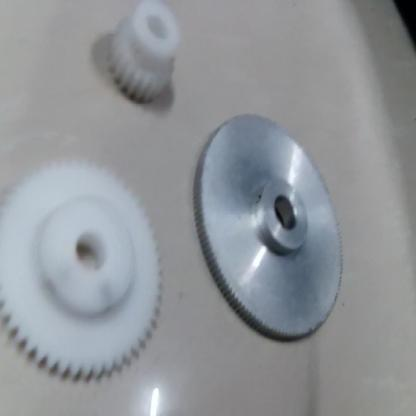FOD: (0, 150, 170, 380), (192, 111, 354, 349), (106, 0, 192, 113)
